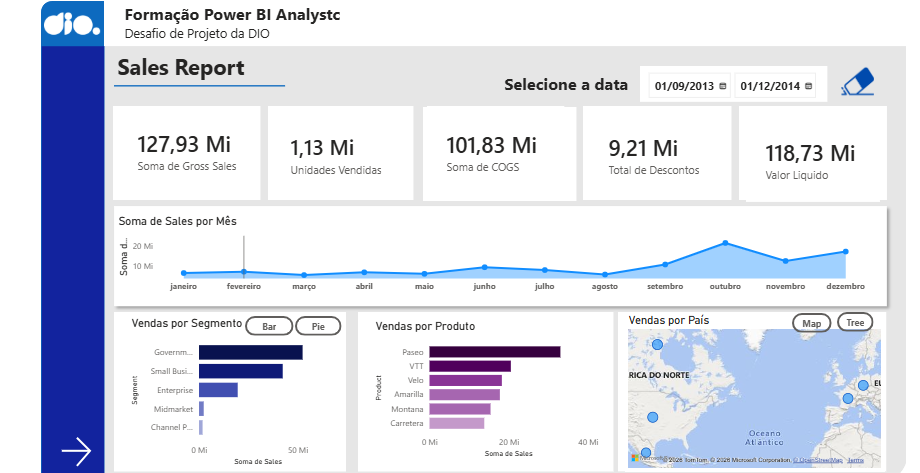

The dashboard page shown, as its layout file describes it:
{"tool":"powerbi","page":{"name":"Página 1","canvas":[1280,720],"ordinal":0},"visuals":[{"type":"shape","box":[0,11.7,1280.5,708.3],"z":0},{"type":"image","title":"Clean","box":[1172.5,107.1,69.9,48.4],"z":0,"group":"g1"},{"type":"map","title":"Vendas por País","fields":{"Size":["Sum(financials. Sales)"],"Category":["financials.Country"]},"box":[862.6,472.3,383.4,234.1],"z":0,"group":"g2"},{"type":"clusteredBarChart","title":"Vendas por Segmento","fields":{"Y":["Sum(financials. Sales)"],"Category":["financials.Segment"]},"box":[129.4,477.1,300,225.4],"z":0,"group":"g3"},{"type":"slicer","fields":{"Values":["financials.Date"]},"box":[885.4,108.3,276.6,52.7],"z":1000,"group":"g1"},{"type":"cardVisual","fields":{"Data":["Sum(financials.Units Sold)"]},"box":[345.4,166.8,193.2,139],"z":1000},{"type":"actionButton","title":"Botão-Map","box":[1109.2,472.7,58.5,29.3],"z":1250,"group":"g2"},{"type":"actionButton","title":"Botão-Treemap","box":[1176.5,471.2,54.1,29.3],"z":1500,"group":"g2"},{"type":"actionButton","title":"Botão-Bar","box":[302,477.1,71.7,29.3],"z":1500,"group":"g3"},{"type":"textbox","title":"Selecione a data","box":[676.1,112.7,197.6,52.7],"z":2000,"group":"g1"},{"type":"shape","box":[106.8,166.8,218,139],"z":2000},{"type":"actionButton","title":"Botão-Rosca","box":[375.2,477.1,68.8,29.3],"z":2000,"group":"g3"},{"type":"shape","box":[0,11.8,94.1,708.9],"z":3000},{"type":"actionButton","box":[1185.1,102.4,48.4,48.4],"z":3000,"group":"g1"},{"type":"shape","box":[335.1,166.8,215.1,139],"z":5000},{"type":"cardVisual","fields":{"Data":["Sum(financials.COGS)"]},"box":[1046.3,166.8,184.4,139],"z":6000},{"type":"shape","box":[0,11.7,93.7,67.3],"z":7000},{"type":"shape","box":[564.9,168.3,226.8,139],"z":9000},{"type":"image","title":"Logo_DIO","box":[4.4,11.7,83.4,67.3],"z":10000},{"type":"shape","box":[802,166.8,219.5,139],"z":11000},{"type":"shape","box":[93.7,11.7,1186.8,67.3],"z":12000},{"type":"shape","title":"Forma","box":[1032.1,166.9,218.7,139.3],"z":13000},{"type":"textbox","box":[118.5,8.8,386.3,73.2],"z":14000},{"type":"shape","box":[107.7,123,252.9,29.1],"z":15000},{"type":"textbox","box":[107.7,82,218.7,56.4],"z":16000},{"type":"shape","box":[99.1,305.9,1160.4,165.8],"z":17000},{"type":"shape","box":[107.7,471.7,343.5,235.8],"z":18000},{"type":"shape","box":[468.3,471.7,377.7,235.8],"z":19000},{"type":"shape","box":[853.2,471.2,396.6,235.6],"z":20000},{"type":"areaChart","fields":{"Category":["financials.Date.Variation.Hierarquia de datas.Mês"],"Y":["Sum(financials. Sales)"]},"box":[109.8,326.3,1121,124.4],"z":21000},{"type":"clusteredBarChart","title":"Vendas por Produto","fields":{"Category":["financials.Product"],"Y":["Sum(financials. Sales)"]},"box":[488.8,481.5,339.5,209.3],"z":22000},{"type":"group","id":"g1","title":"Filtro por Data","box":[676.1,102.4,566.3,63],"z":23000},{"type":"group","id":"g2","title":"Soma de Sales por País","box":[861.3,471.2,384.7,236.8],"z":24000},{"type":"group","id":"g3","title":"Soma de Sales por Segmento","box":[118.5,477.1,324.9,225.4],"z":25000},{"type":"group","id":"g4","title":"Cartoes","box":[114,167.4,1125.7,141.9],"z":26000},{"type":"cardVisual","fields":{"Data":["Sum(financials.Units Sold)"]},"box":[339.7,176.1,197.6,125.9],"z":26000,"group":"g5"},{"type":"cardVisual","fields":{"Data":["Sum(financials.COGS)"]},"box":[570.6,167.4,203.4,134.6],"z":27000,"group":"g5"},{"type":"actionButton","box":[14.6,651.2,73.2,55.6],"z":27000},{"type":"group","id":"g5","title":"Grupo 1","box":[114,167.4,1125.7,141.9],"z":27001,"group":"g4"},{"type":"cardVisual","fields":{"Data":["Sum(financials.Discounts)"]},"box":[811,176.1,196.1,125.9],"z":28000,"group":"g5"},{"type":"cardVisual","fields":{"Data":["financials.Valor Liquido"]},"box":[1042.2,182,197.6,127.3],"z":29000,"group":"g5"},{"type":"cardVisual","fields":{"Data":["Sum(financials.Gross Sales)"]},"box":[114,168.3,204.9,128.8],"z":30000,"group":"g5"}]}

Visuals, with their boxes on the page's 1280x720 design canvas (x1, y1, x2, y2). These are canvas units, not pixel positions in the 920x473 screenshot, which may show the page scaled, cropped or inside an application window:
shape: <box>0,12,1280,720</box>
"Clean" image: <box>1172,107,1242,156</box>
"Vendas por País" map: <box>863,472,1246,706</box>
"Vendas por Segmento" clusteredBarChart: <box>129,477,429,702</box>
slicer - financials.Date: <box>885,108,1162,161</box>
cardVisual - Sum(financials.Units Sold): <box>345,167,539,306</box>
"Botão-Map" actionButton: <box>1109,473,1168,502</box>
"Botão-Treemap" actionButton: <box>1176,471,1231,500</box>
"Botão-Bar" actionButton: <box>302,477,374,506</box>
"Selecione a data" textbox: <box>676,113,874,165</box>
shape: <box>107,167,325,306</box>
"Botão-Rosca" actionButton: <box>375,477,444,506</box>
shape: <box>0,12,94,721</box>
actionButton: <box>1185,102,1234,151</box>
shape: <box>335,167,550,306</box>
cardVisual - Sum(financials.COGS): <box>1046,167,1231,306</box>
shape: <box>0,12,94,79</box>
shape: <box>565,168,792,307</box>
"Logo_DIO" image: <box>4,12,88,79</box>
shape: <box>802,167,1022,306</box>
shape: <box>94,12,1280,79</box>
"Forma" shape: <box>1032,167,1251,306</box>
textbox: <box>118,9,505,82</box>
shape: <box>108,123,361,152</box>
textbox: <box>108,82,326,138</box>
shape: <box>99,306,1260,472</box>
shape: <box>108,472,451,708</box>
shape: <box>468,472,846,708</box>
shape: <box>853,471,1250,707</box>
areaChart - financials.Date.Variation.Hierarquia de datas.Mês x Sum(financials. Sales): <box>110,326,1231,451</box>
"Vendas por Produto" clusteredBarChart: <box>489,482,828,691</box>
"Filtro por Data" group: <box>676,102,1242,165</box>
"Soma de Sales por País" group: <box>861,471,1246,708</box>
"Soma de Sales por Segmento" group: <box>118,477,443,702</box>
"Cartoes" group: <box>114,167,1240,309</box>
cardVisual - Sum(financials.Units Sold): <box>340,176,537,302</box>
cardVisual - Sum(financials.COGS): <box>571,167,774,302</box>
actionButton: <box>15,651,88,707</box>
"Grupo 1" group: <box>114,167,1240,309</box>
cardVisual - Sum(financials.Discounts): <box>811,176,1007,302</box>
cardVisual - financials.Valor Liquido: <box>1042,182,1240,309</box>
cardVisual - Sum(financials.Gross Sales): <box>114,168,319,297</box>
